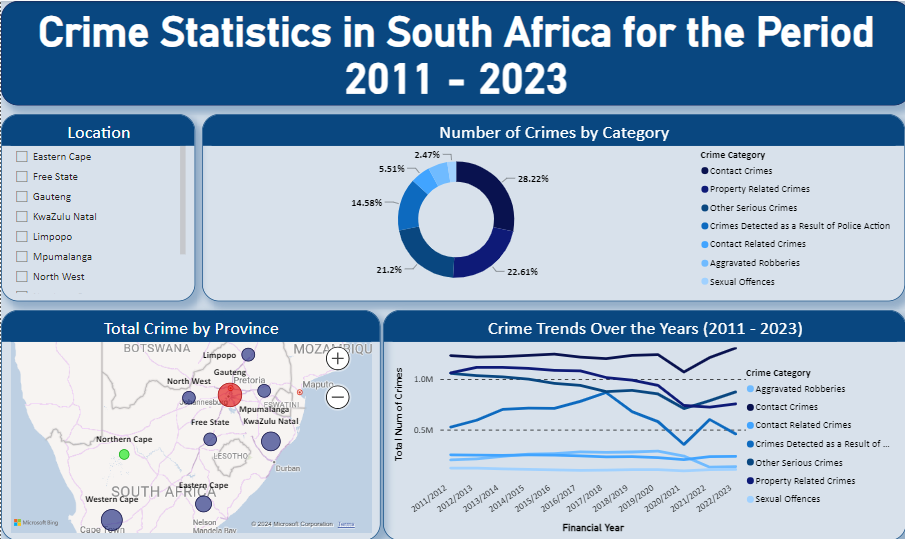

This screenshot's page, from the dashboard's own definition file:
{"tool":"powerbi","page":{"name":"Page 1","canvas":[1310,781],"ordinal":0},"visuals":[{"type":"slicer","title":"Location","fields":{"Values":["crime_incidents_by_category.Geography"]},"box":[0,162.9,281.4,271.4],"z":0},{"type":"map","title":"Total Crime by Province","fields":{"Category":["crime_incidents_by_category.Geography"],"Size":["crime_incidents_by_category.Count"]},"box":[0,447.1,548.6,334.3],"z":1000},{"type":"donutChart","title":"Number of Crimes by Category","fields":{"Category":["crime_incidents_by_category.Crime Category"],"Y":["crime_incidents_by_category.Count"]},"box":[291.4,162.9,1017.1,271.4],"z":2000},{"type":"lineChart","title":"Crime Trends Over the Years (2011 - 2023)","fields":{"Category":["crime_incidents_by_category.Financial Year"],"Y":["crime_incidents_by_category.Count"],"Series":["crime_incidents_by_category.Crime Category"]},"box":[552.9,447.1,757.1,334.3],"z":3000},{"type":"textbox","title":"Crime Statistics in South Africa for the Period 2011 - 2023","box":[0,0,1315.7,151.4],"z":4000}]}

Visuals, with their boxes in screenshot pixels (x1, y1, x2, y2), scaled from the page's 1310x781 canvas onto the 905x539 screenshot:
"Location" slicer: [left=0, top=112, right=194, bottom=300]
"Total Crime by Province" map: [left=0, top=309, right=379, bottom=538]
"Number of Crimes by Category" donutChart: [left=201, top=112, right=904, bottom=300]
"Crime Trends Over the Years (2011 - 2023)" lineChart: [left=382, top=309, right=904, bottom=538]
"Crime Statistics in South Africa for the Period 2011 - 2023" textbox: [left=0, top=0, right=904, bottom=104]
